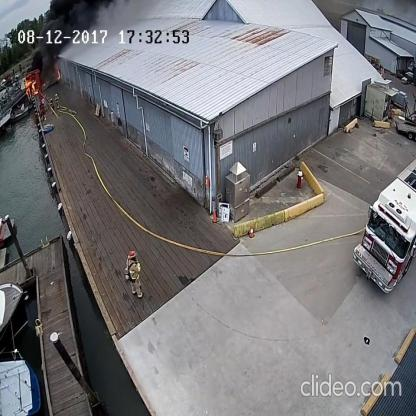fire: (22, 74, 39, 104), (54, 66, 62, 82)
